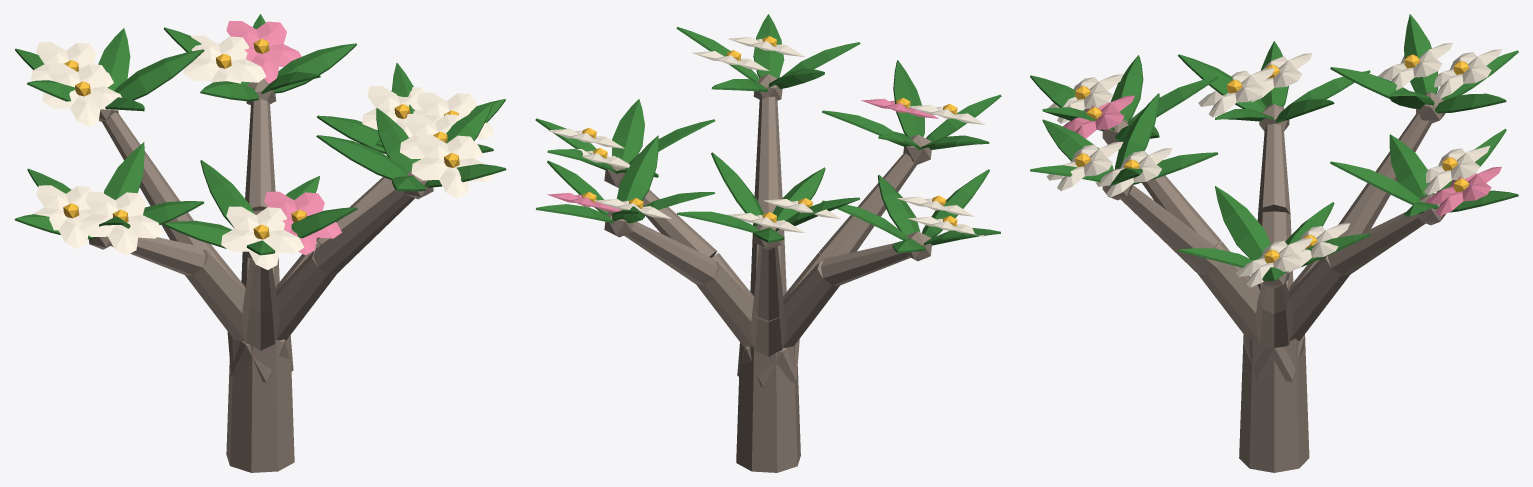
The model's file is tree-plumeria.glb.
3 renders of one model, left to right at view 1: azimuth 30°, elevation 25°; view 2: azimuth 150°, elevation 25°; view 3: azimuth 270°, elevation 25°, orthographic. The views are drawn at different scales.
Visible parts, largest first — view 1: Knobby plumeria trunk, Plumeria bare branch.005, Plumeria bare branch.001, Plumeria fork.003, Plumeria fork.005, Plumeria bare branch.002, Plumeria bare branch.003, Long plumeria leaf.013, Long plumeria leaf.028, Long plumeria leaf.009, Plumeria fork.004, Plumeria bare branch.004 (+48 smaller); view 2: Knobby plumeria trunk, Plumeria bare branch.005, Plumeria bare branch.004, Plumeria bare branch.001, Plumeria fork.003, Plumeria fork.001, Plumeria bare branch.003, Plumeria bare branch.002, Long plumeria leaf.008, Plumeria bare branch, Long plumeria leaf.004, Long plumeria leaf.021 (+24 smaller); view 3: Knobby plumeria trunk, Plumeria bare branch.005, Plumeria fork.001, Plumeria bare branch.002, Plumeria fork.005, Plumeria bare branch.001, Plumeria bare branch.003, Long plumeria leaf.003, Plumeria bare branch.004, Long plumeria leaf.007, Plumeria fork, Long plumeria leaf.028 (+22 smaller).
Part boxes in pixels (left/top/right/bottom): Knobby plumeria trunk: left=226, top=336, right=294, bottom=472; Plumeria bare branch.005: left=313, top=189, right=414, bottom=274; Plumeria bare branch.001: left=245, top=99, right=275, bottom=210; Plumeria fork.003: left=185, top=250, right=244, bottom=341; Plumeria fork.005: left=276, top=250, right=336, bottom=340; Plumeria bare branch.002: left=101, top=112, right=205, bottom=246; Plumeria bare branch.003: left=111, top=237, right=205, bottom=275; Long plumeria leaf.013: left=114, top=49, right=204, bottom=100; Long plumeria leaf.028: left=316, top=135, right=407, bottom=180; Long plumeria leaf.009: left=274, top=43, right=356, bottom=93; Plumeria fork.004: left=241, top=298, right=279, bottom=350; Plumeria bare branch.004: left=244, top=259, right=276, bottom=313; Knobby plumeria trunk: left=736, top=343, right=800, bottom=472; Plumeria bare branch.005: left=753, top=96, right=782, bottom=225; Plumeria bare branch.004: left=818, top=153, right=918, bottom=258; Plumeria bare branch.001: left=624, top=222, right=717, bottom=284; Plumeria fork.003: left=783, top=261, right=839, bottom=347; Plumeria fork.001: left=696, top=261, right=753, bottom=347; Plumeria bare branch.003: left=821, top=243, right=910, bottom=285; Plumeria bare branch.002: left=753, top=245, right=783, bottom=321; Long plumeria leaf.008: left=616, top=135, right=658, bottom=201; Plumeria bare branch: left=642, top=190, right=717, bottom=257; Long plumeria leaf.004: left=612, top=99, right=644, bottom=162; Long plumeria leaf.021: left=893, top=60, right=924, bottom=137; Knobby plumeria trunk: left=1239, top=334, right=1309, bottom=472; Plumeria bare branch.005: left=1121, top=185, right=1219, bottom=274; Plumeria fork.001: left=1289, top=256, right=1349, bottom=341; Plumeria bare branch.002: left=1337, top=112, right=1432, bottom=237; Plumeria fork.005: left=1198, top=262, right=1259, bottom=341; Plumeria bare branch.001: left=1327, top=212, right=1425, bottom=275; Plumeria bare branch.003: left=1258, top=123, right=1290, bottom=214; Long plumeria leaf.003: left=1215, top=186, right=1270, bottom=260; Plumeria bare branch.004: left=1142, top=152, right=1221, bottom=246; Long plumeria leaf.007: left=1389, top=134, right=1433, bottom=198; Plumeria fork: left=1255, top=299, right=1293, bottom=347; Long plumeria leaf.028: left=1115, top=93, right=1159, bottom=169.
Bounding box in the file's own units: 2.25 × 1.6 × 1.95.
